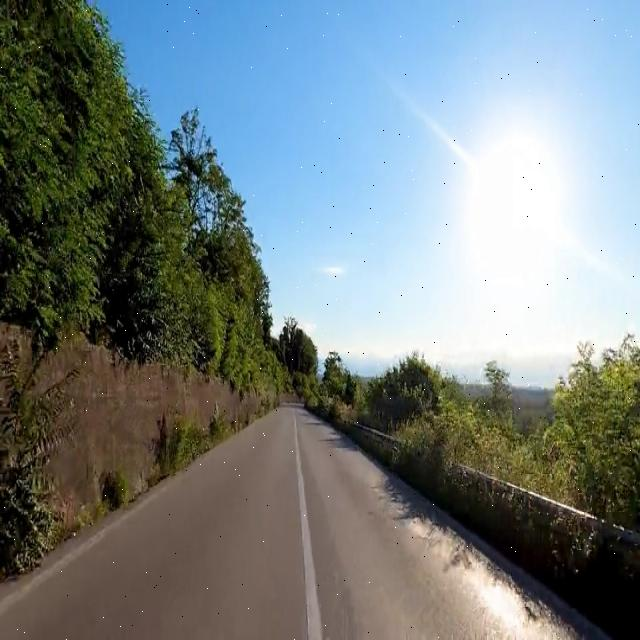lane: (295, 416, 323, 639)
road: (1, 405, 573, 638)
